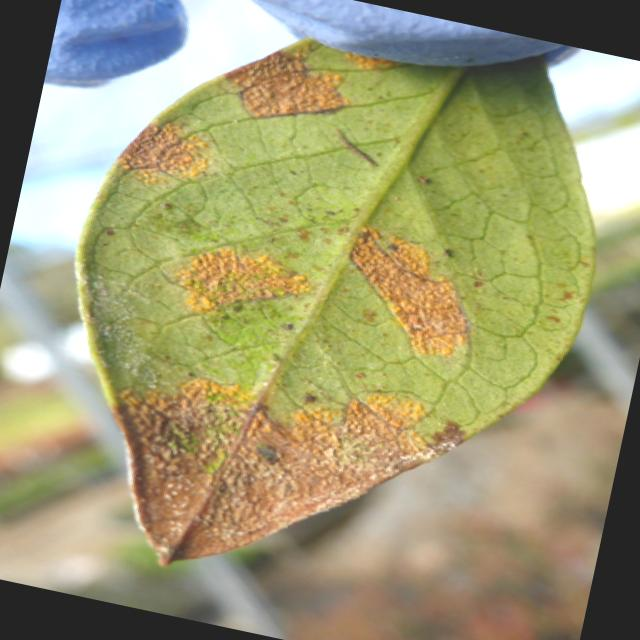leaf_rust: (78, 40, 591, 565)
